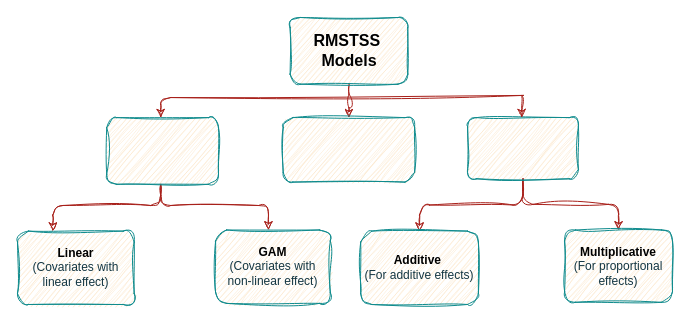
The diagram is 690 pixels wide and 322 high, and some of its shapes have lost their labels. The centre of each missing label's shape, as x and y in pixels:
"Dependent Censoring (Censoring depends on covariates)" goes at point 348,149.
"Non Stratified (Single Center Studies)" goes at point 162,150.
"Stratified (For Multicenter Studies)" goes at point 522,148.
